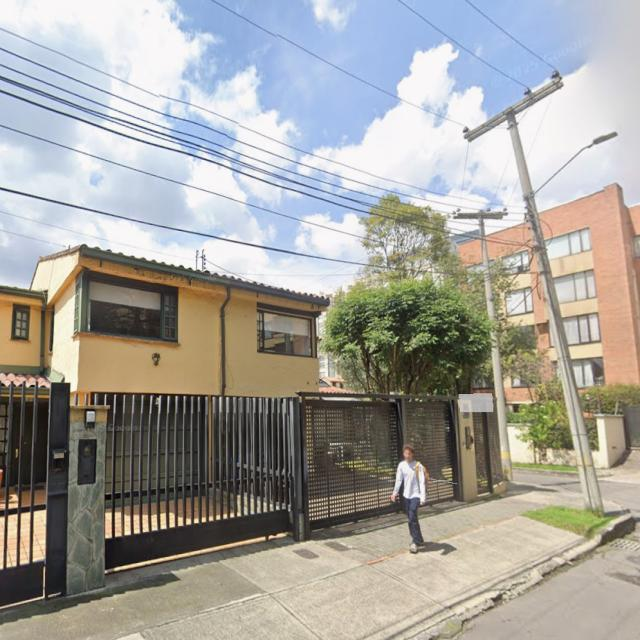fachada: (0, 246, 329, 403), (541, 185, 639, 387)
poste: (507, 111, 602, 512), (479, 215, 512, 481)
